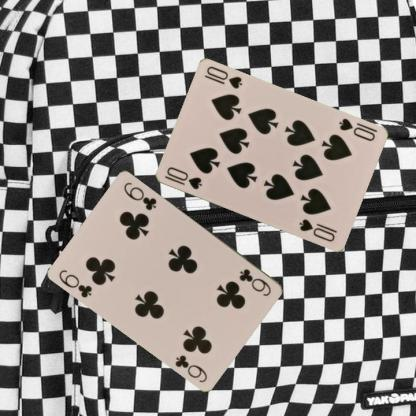10s: (162, 164, 204, 191), (336, 116, 376, 142)
6c: (56, 266, 94, 300), (237, 266, 273, 298)
